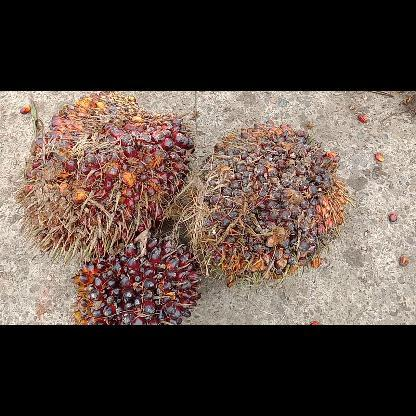Kurang masak: (199, 122, 347, 286), (71, 238, 201, 324)
TBS masak: (21, 91, 196, 255)
